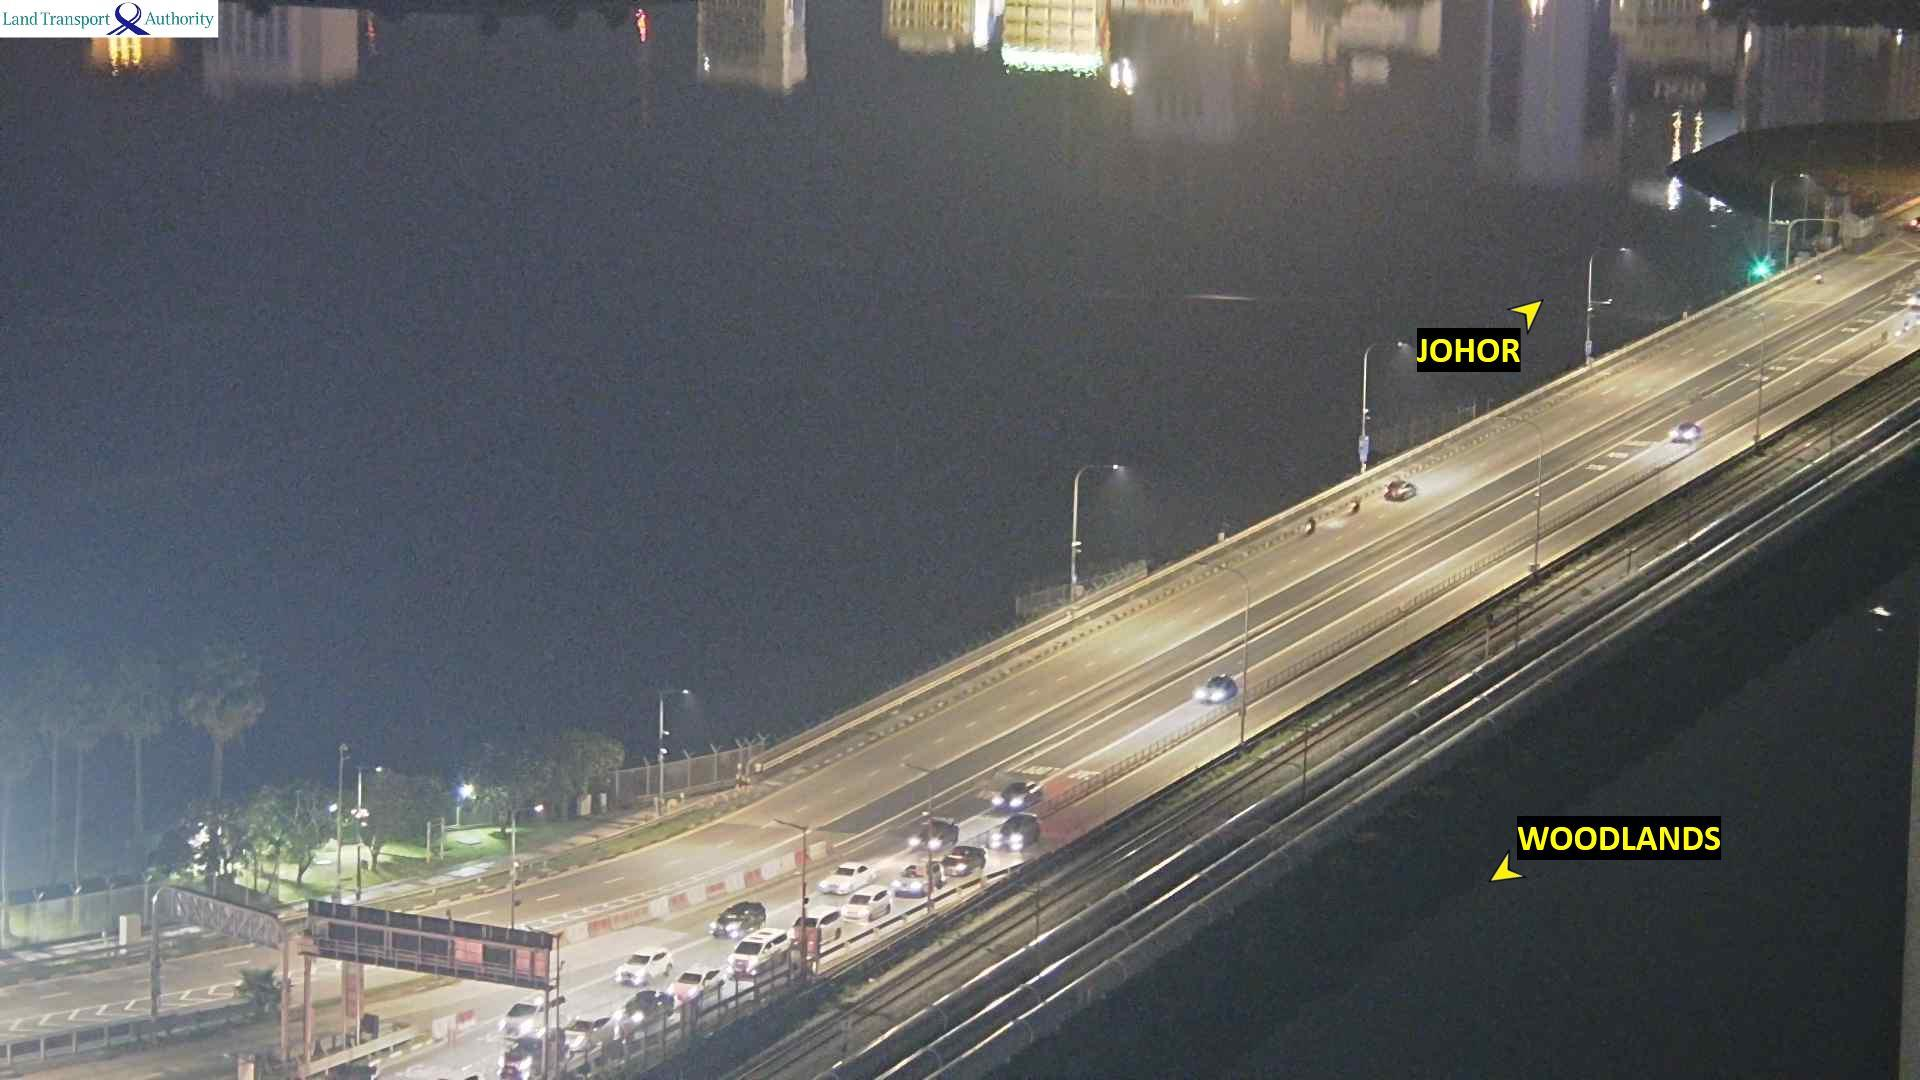vehicle-causeway-johor: (1385, 479, 1416, 502), (1305, 515, 1315, 534), (1910, 216, 1920, 233), (1351, 496, 1360, 512), (1816, 270, 1824, 283)
vehicle-causeway-singapore: (498, 989, 568, 1039), (496, 1028, 563, 1079), (728, 928, 789, 978), (666, 964, 725, 1004), (615, 946, 672, 986), (615, 991, 673, 1029), (711, 898, 766, 935), (790, 904, 842, 942), (989, 813, 1042, 850), (565, 1011, 614, 1050), (843, 885, 890, 923), (819, 862, 873, 895), (892, 863, 940, 894), (913, 817, 959, 848), (992, 781, 1042, 809), (940, 846, 986, 876), (1198, 673, 1237, 704), (1671, 422, 1701, 443)
